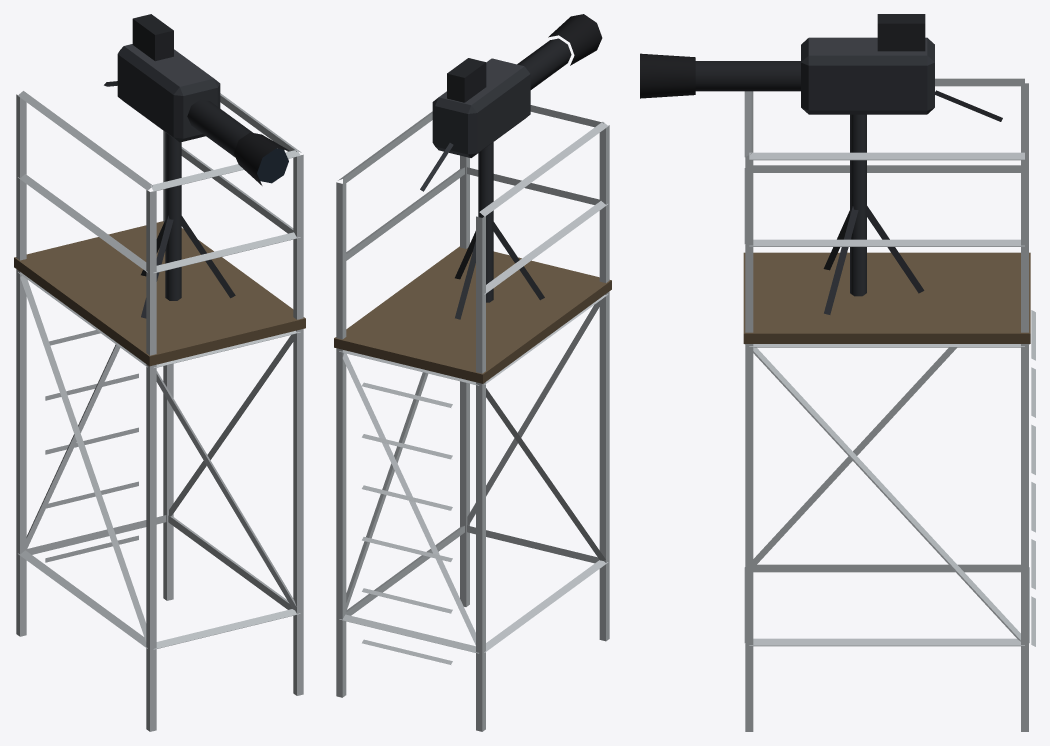
The model's file is camera_tower.glb.
The picture shows the model from 3 angles, left to right: view 1: azimuth 30°, elevation 25°; view 2: azimuth 150°, elevation 25°; view 3: azimuth 270°, elevation 25°; orthographic projection. The views are drawn at different scales.
Parts seen in each view (by area): view 1: camera_tower; view 2: camera_tower; view 3: camera_tower.
Part boxes in pixels (bbox=[...]): camera_tower: bbox=[14, 14, 305, 731]; camera_tower: bbox=[334, 14, 611, 731]; camera_tower: bbox=[640, 14, 1035, 731].
Size of the model in its own units: 1 by 3.88 by 2.07.
